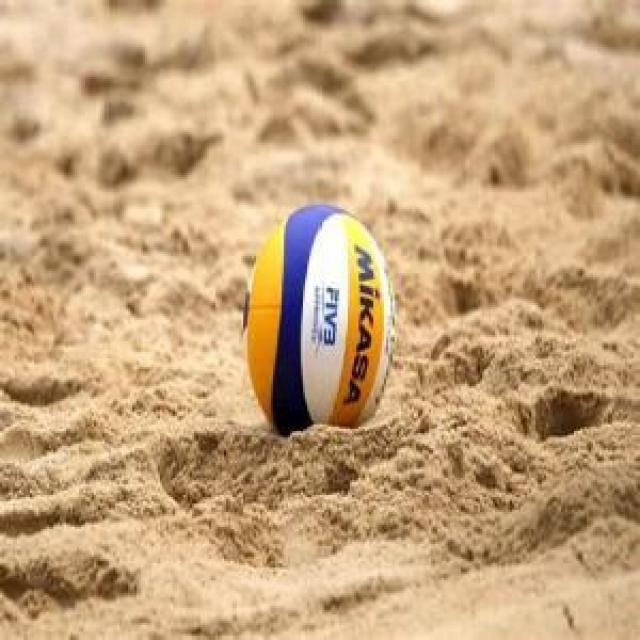volleyball: (242, 206, 398, 436)
